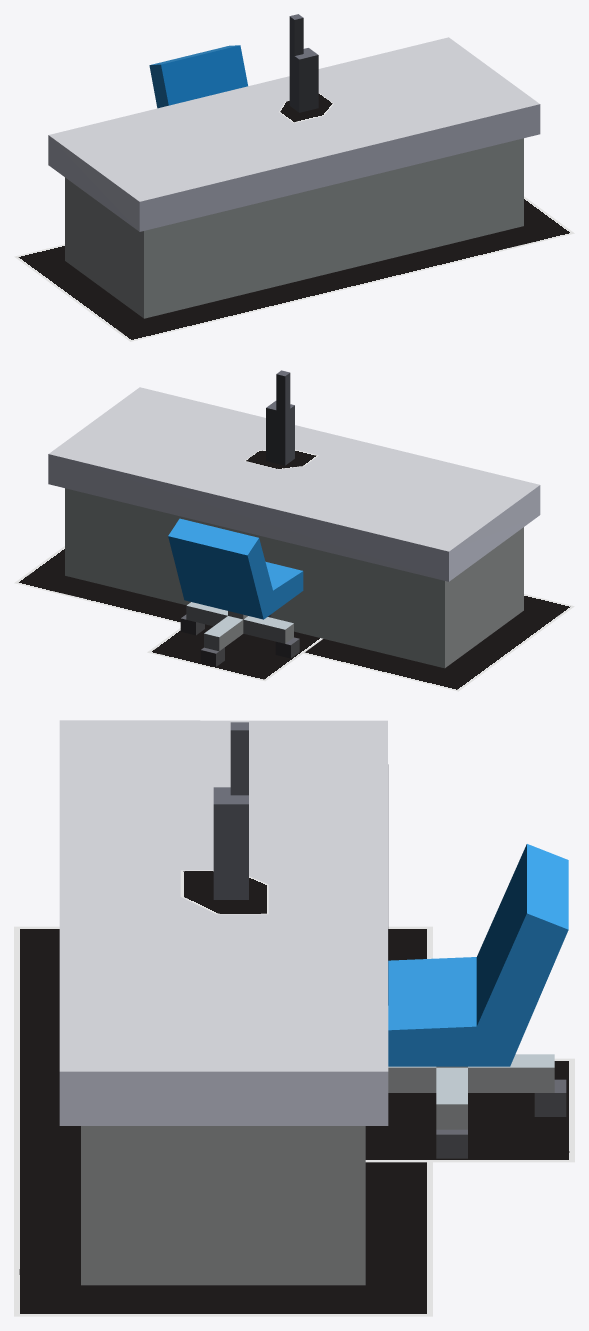
Rendered from desk outside.fbx.
The picture shows the model from 3 angles, top to bottom: view 1: azimuth 30°, elevation 25°; view 2: azimuth 150°, elevation 25°; view 3: azimuth 270°, elevation 25°; orthographic projection. The views are drawn at different scales.
Parts seen in each view (by area): view 1: P01_quarter_desk.003, P01_quarter_chair.004, P00_quarter_hand_radio.002; view 2: P01_quarter_desk.003, P01_quarter_chair.004, P00_quarter_hand_radio.002; view 3: P01_quarter_desk.003, P01_quarter_chair.004, P00_quarter_hand_radio.002.
Boxes of the visible parts, x1,y1,x2,y2 form: P01_quarter_desk.003: (14,37,574,341); P01_quarter_chair.004: (149,45,247,108); P00_quarter_hand_radio.002: (279,14,333,122); P01_quarter_desk.003: (14,387,574,691); P01_quarter_chair.004: (147,518,322,681); P00_quarter_hand_radio.002: (244,370,318,469); P01_quarter_desk.003: (14,720,432,1316); P01_quarter_chair.004: (365,844,574,1162); P00_quarter_hand_radio.002: (180,722,268,914).
Bounding box in the file's own units: 282 × 135 × 171.
Materials: 2 (2 with a texture image).
